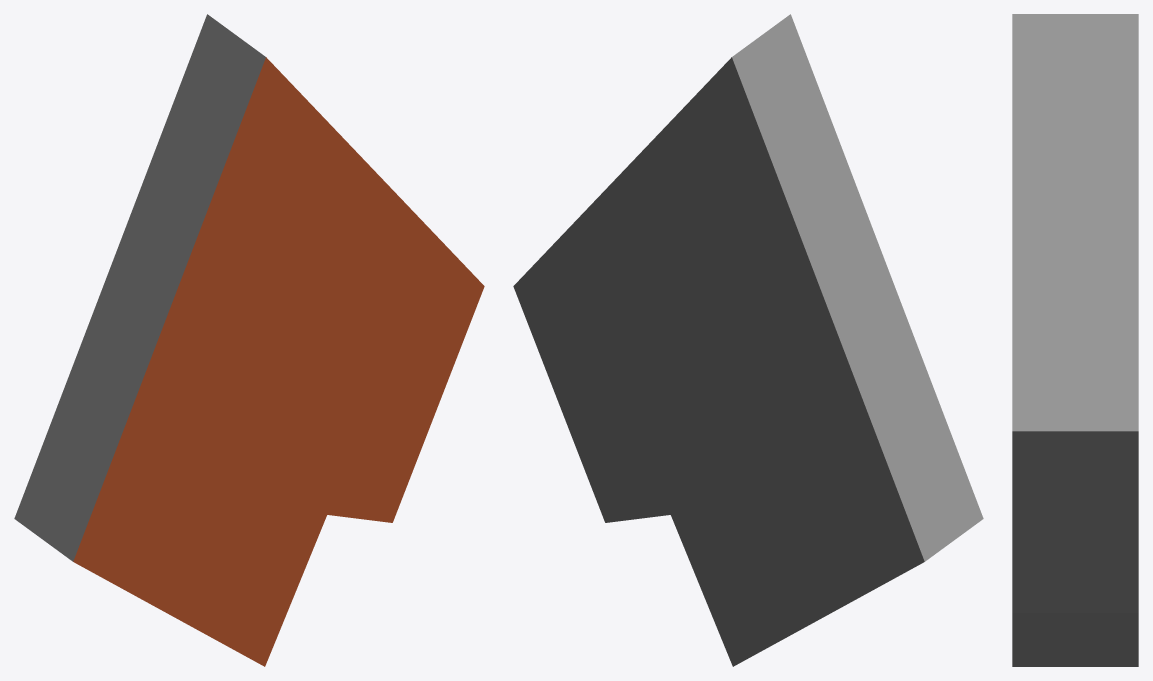
File: construction_2242_assumed_A_Casa_h6m.obj
3 renders of one model, left to right at view 1: azimuth 30°, elevation 25°; view 2: azimuth 150°, elevation 25°; view 3: azimuth 270°, elevation 25°, orthographic. The views are drawn at different scales.
Visible parts, largest first — view 1: construction_2242_assumed_A_Casa; view 2: construction_2242_assumed_A_Casa; view 3: construction_2242_assumed_A_Casa.
Part boxes in pixels (<box>): construction_2242_assumed_A_Casa: <box>14,14,484,666</box>; construction_2242_assumed_A_Casa: <box>513,14,983,666</box>; construction_2242_assumed_A_Casa: <box>1012,14,1138,666</box>.
Bounding box in the file's own units: 24.2 × 34.26 × 6.
